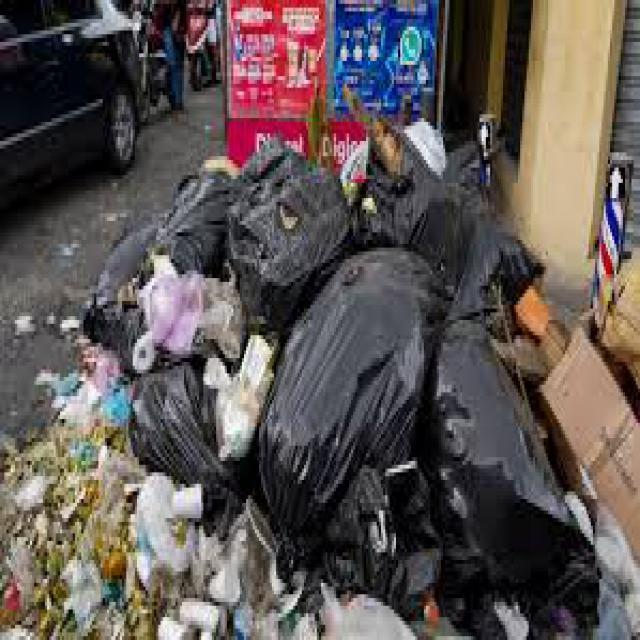Trashbag: (291, 262, 418, 570), (412, 347, 550, 599), (216, 149, 348, 302), (120, 364, 214, 487), (360, 174, 468, 248), (142, 176, 225, 268)
